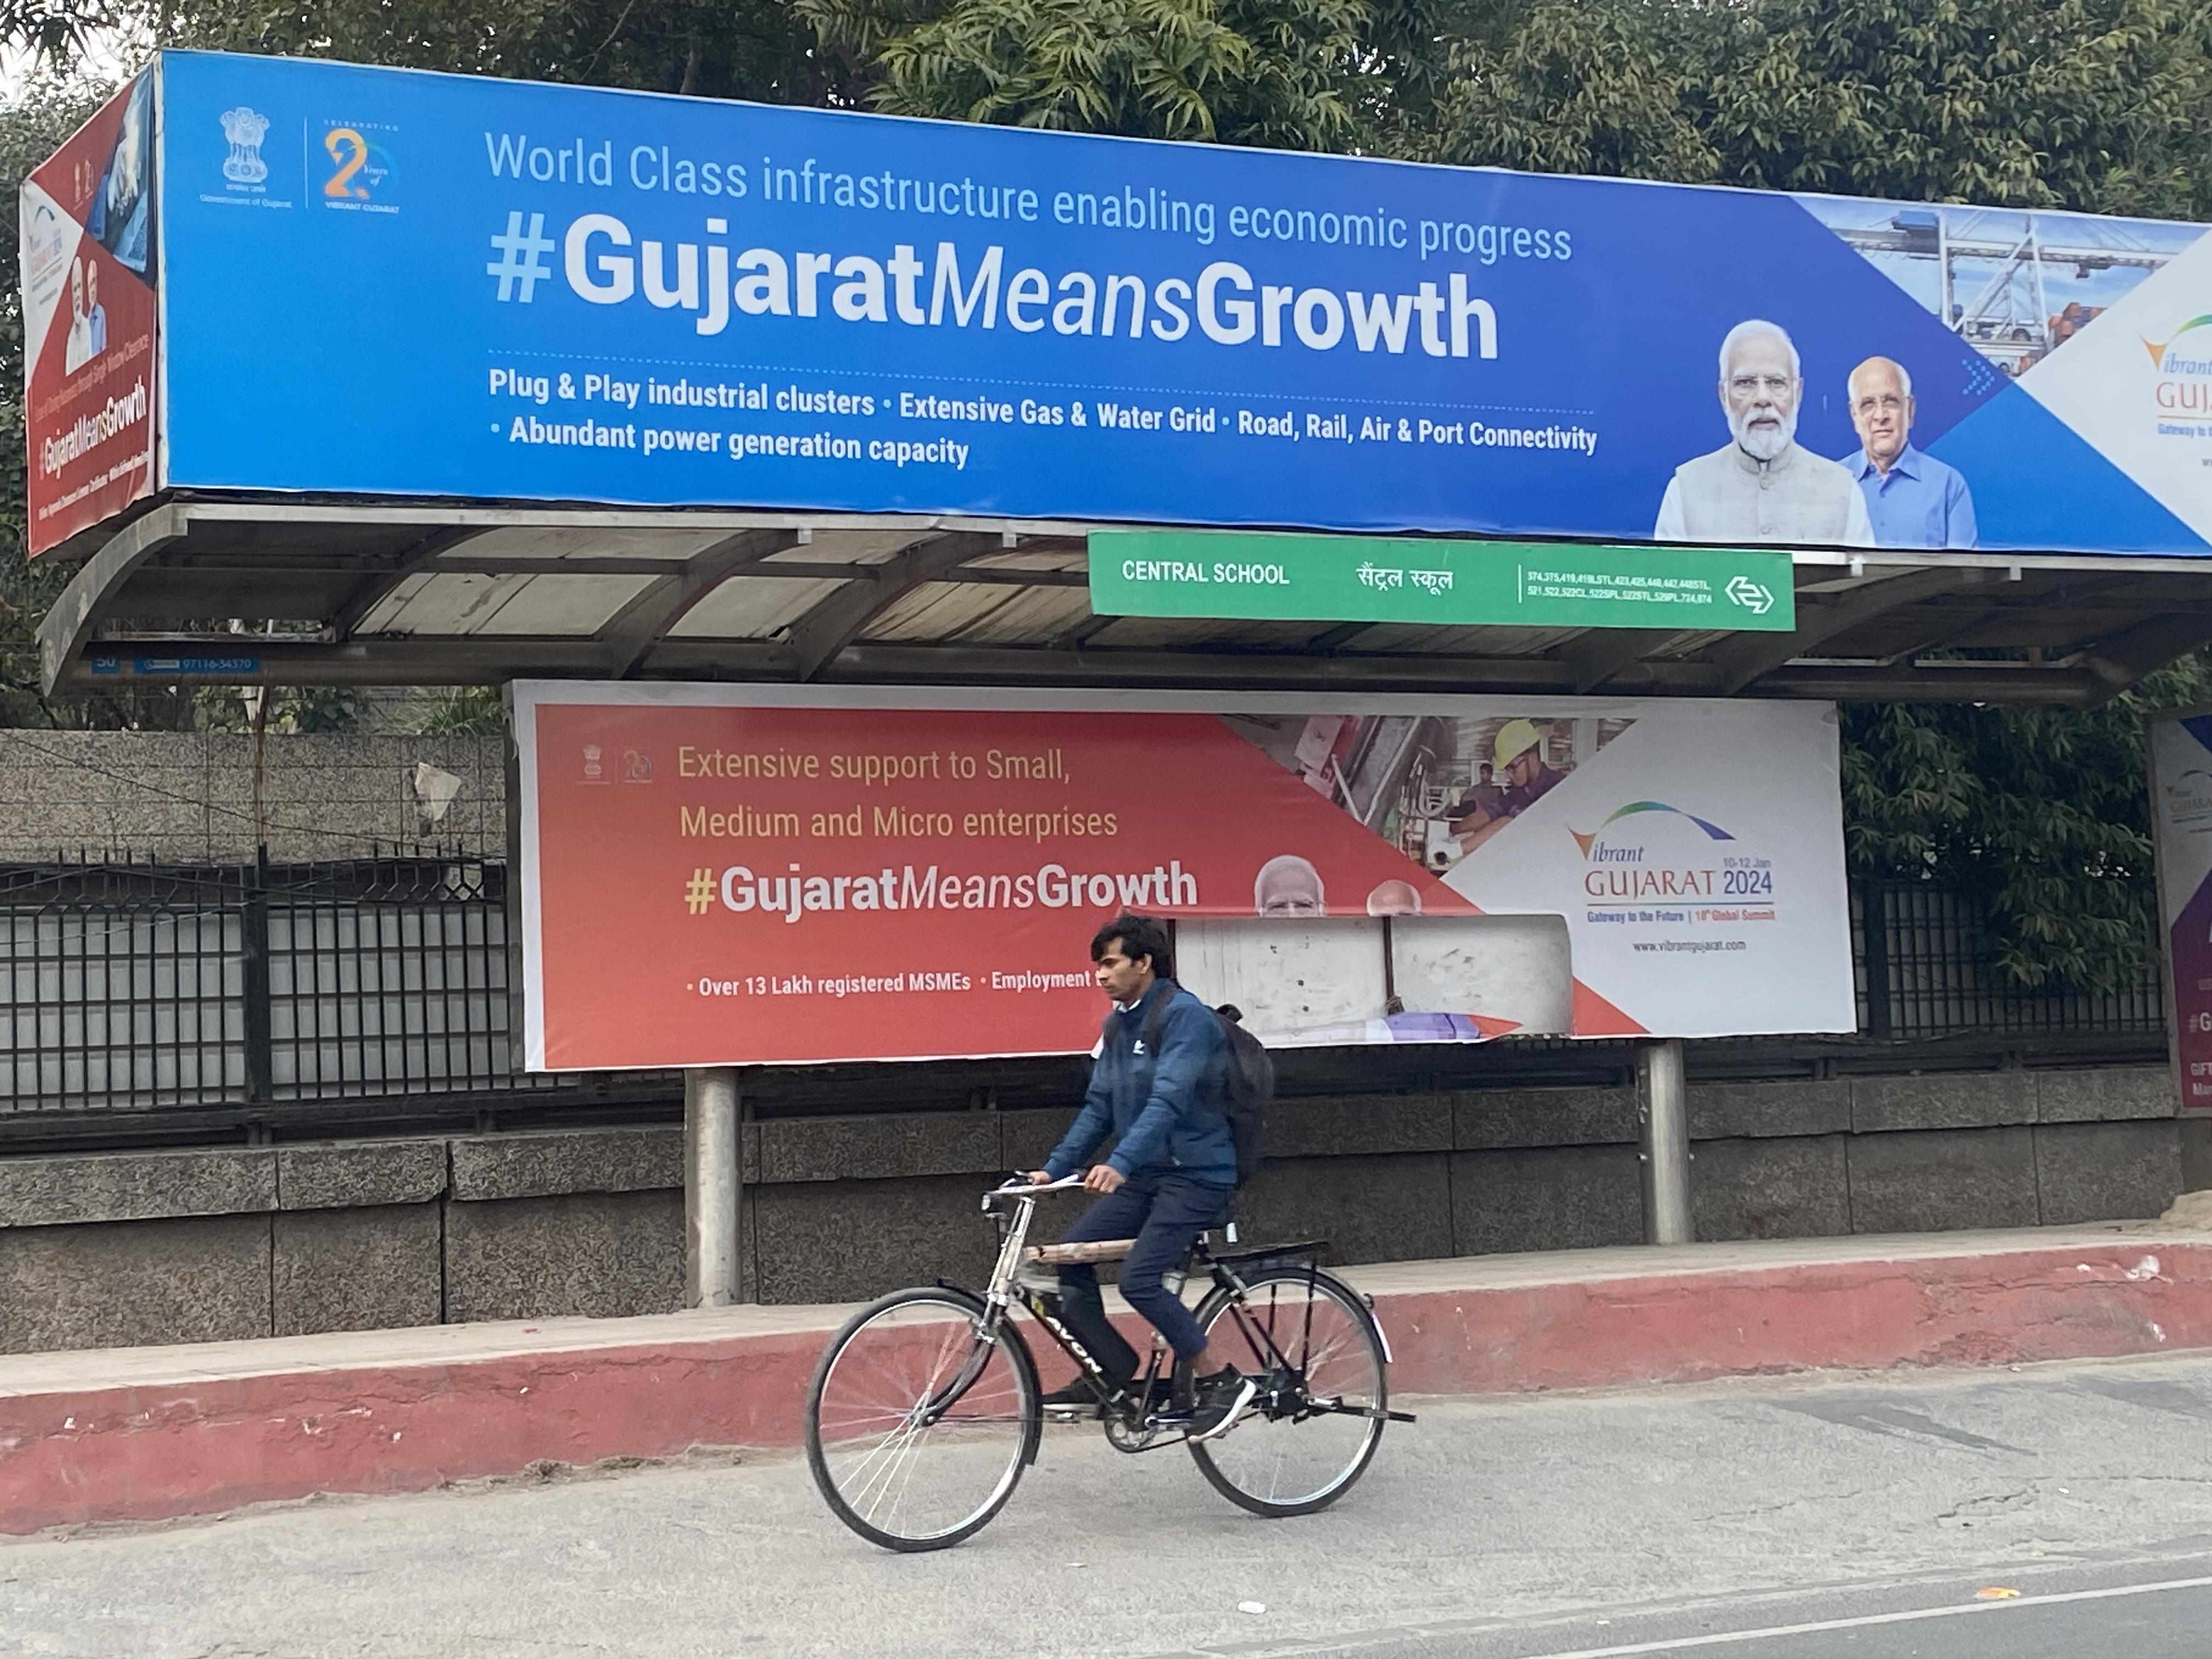Bus-stop-board: (1092, 516, 1804, 631)
